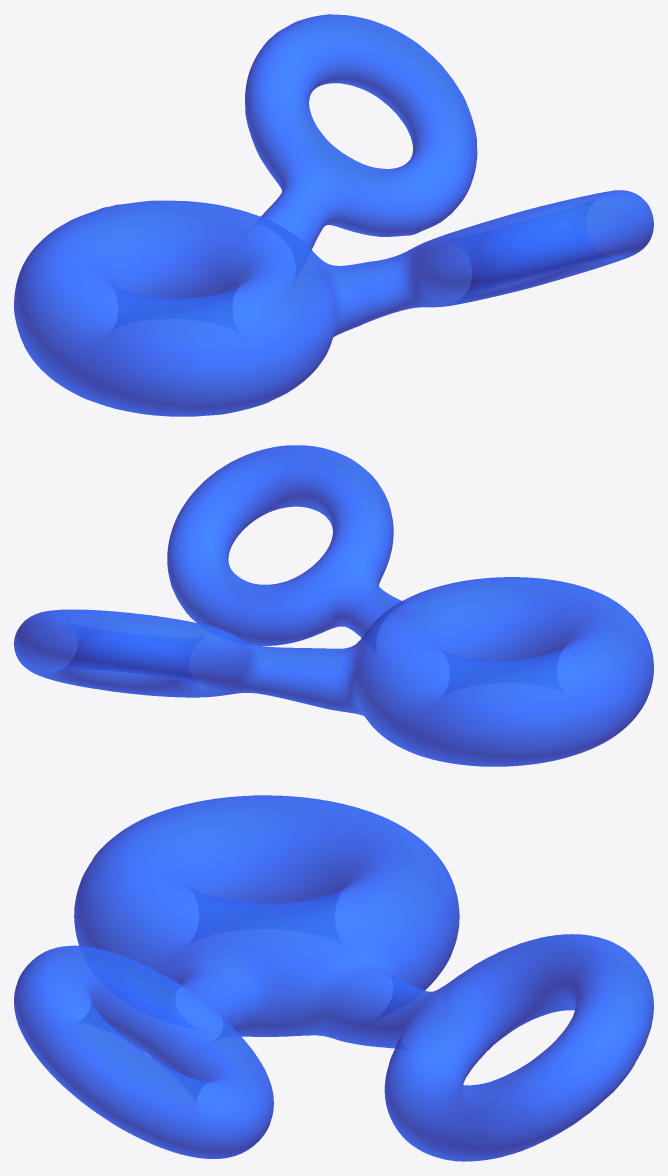
Rendered from Monoclonal antibodies fullbody.fbx.
3 views of the same model, one above another, from view 1: azimuth 30°, elevation 25°; view 2: azimuth 150°, elevation 25°; view 3: azimuth 270°, elevation 25° (orthographic). The views are drawn at different scales.
Visible parts, largest first — view 1: Sphere.004; view 2: Sphere.004; view 3: Sphere.004.
Boxes of the visible parts, left/top/right/bottom form: Sphere.004: left=14, top=14, right=653, bottom=416; Sphere.004: left=14, top=445, right=653, bottom=766; Sphere.004: left=14, top=795, right=653, bottom=1161.
Bounding box in the file's own units: 462 × 129 × 409.
